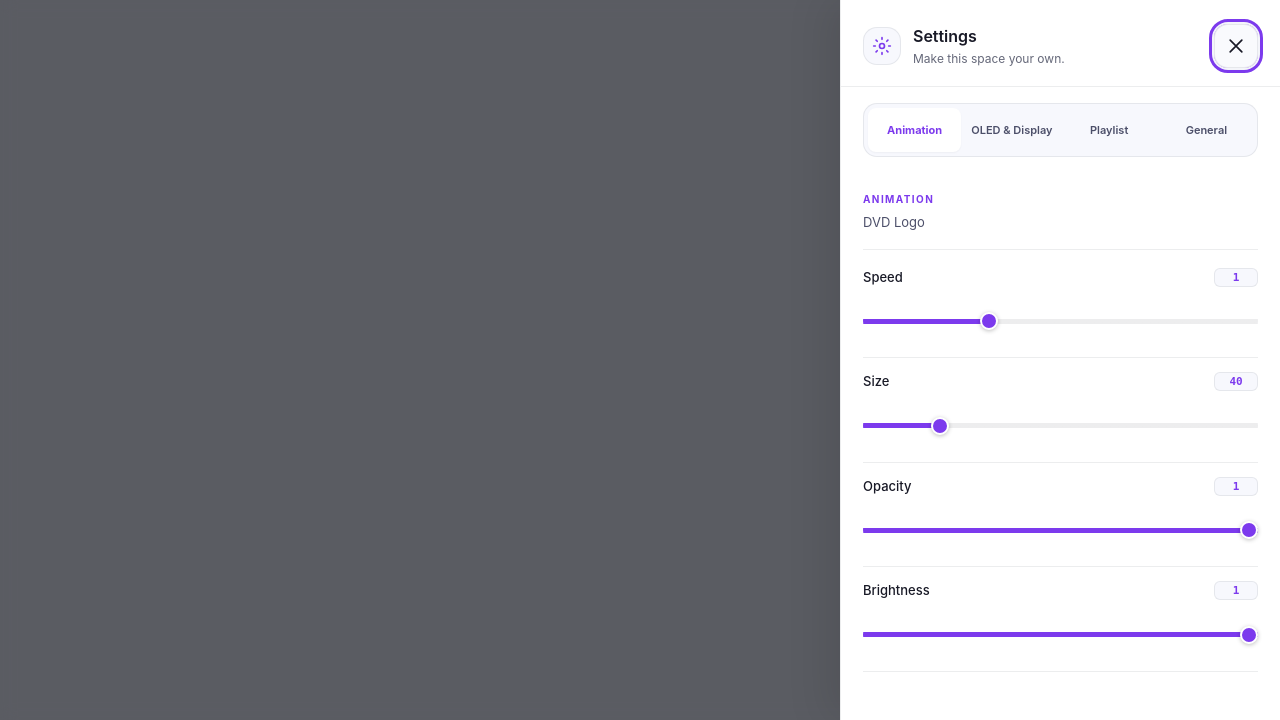
Test case: SettingsPanel › saves a replacement before updating the setting and removing the old image
Click the tab "OLED & Display": (1012, 130) [965,108,1059,152]
(page scrolled)
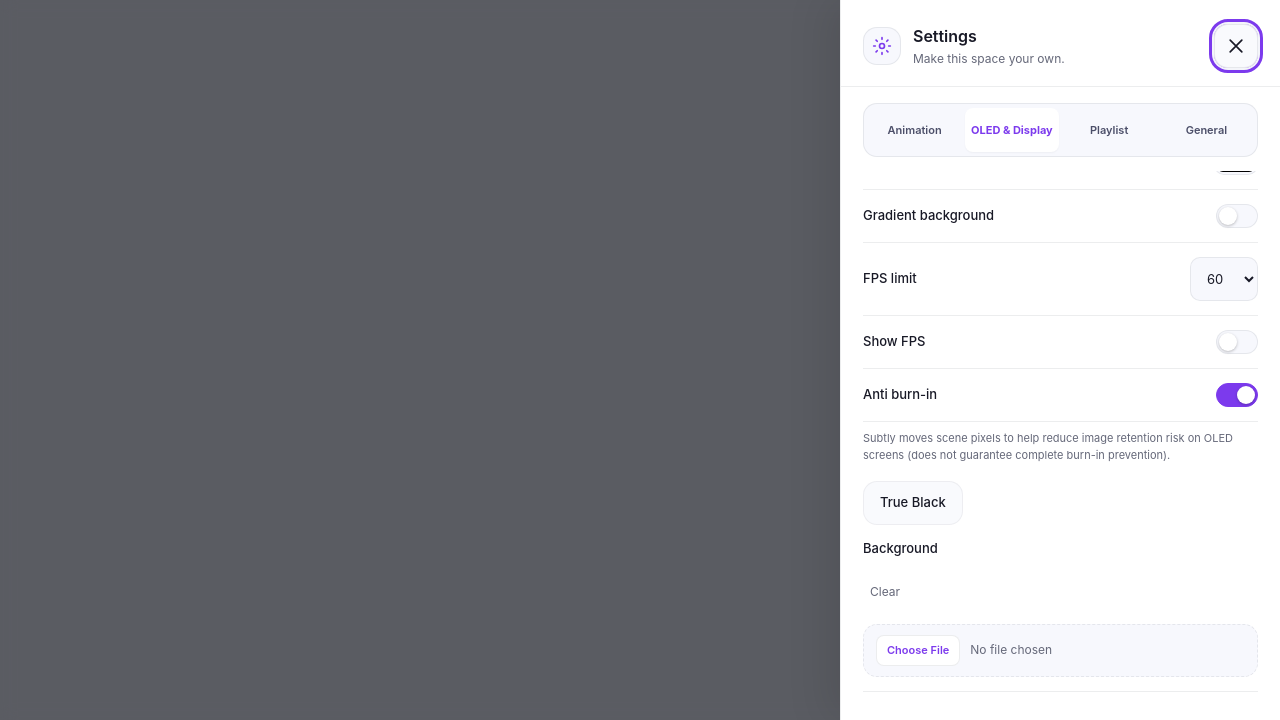
Expected: the file field labelled "Background" is shown, [863,624,1258,677]
